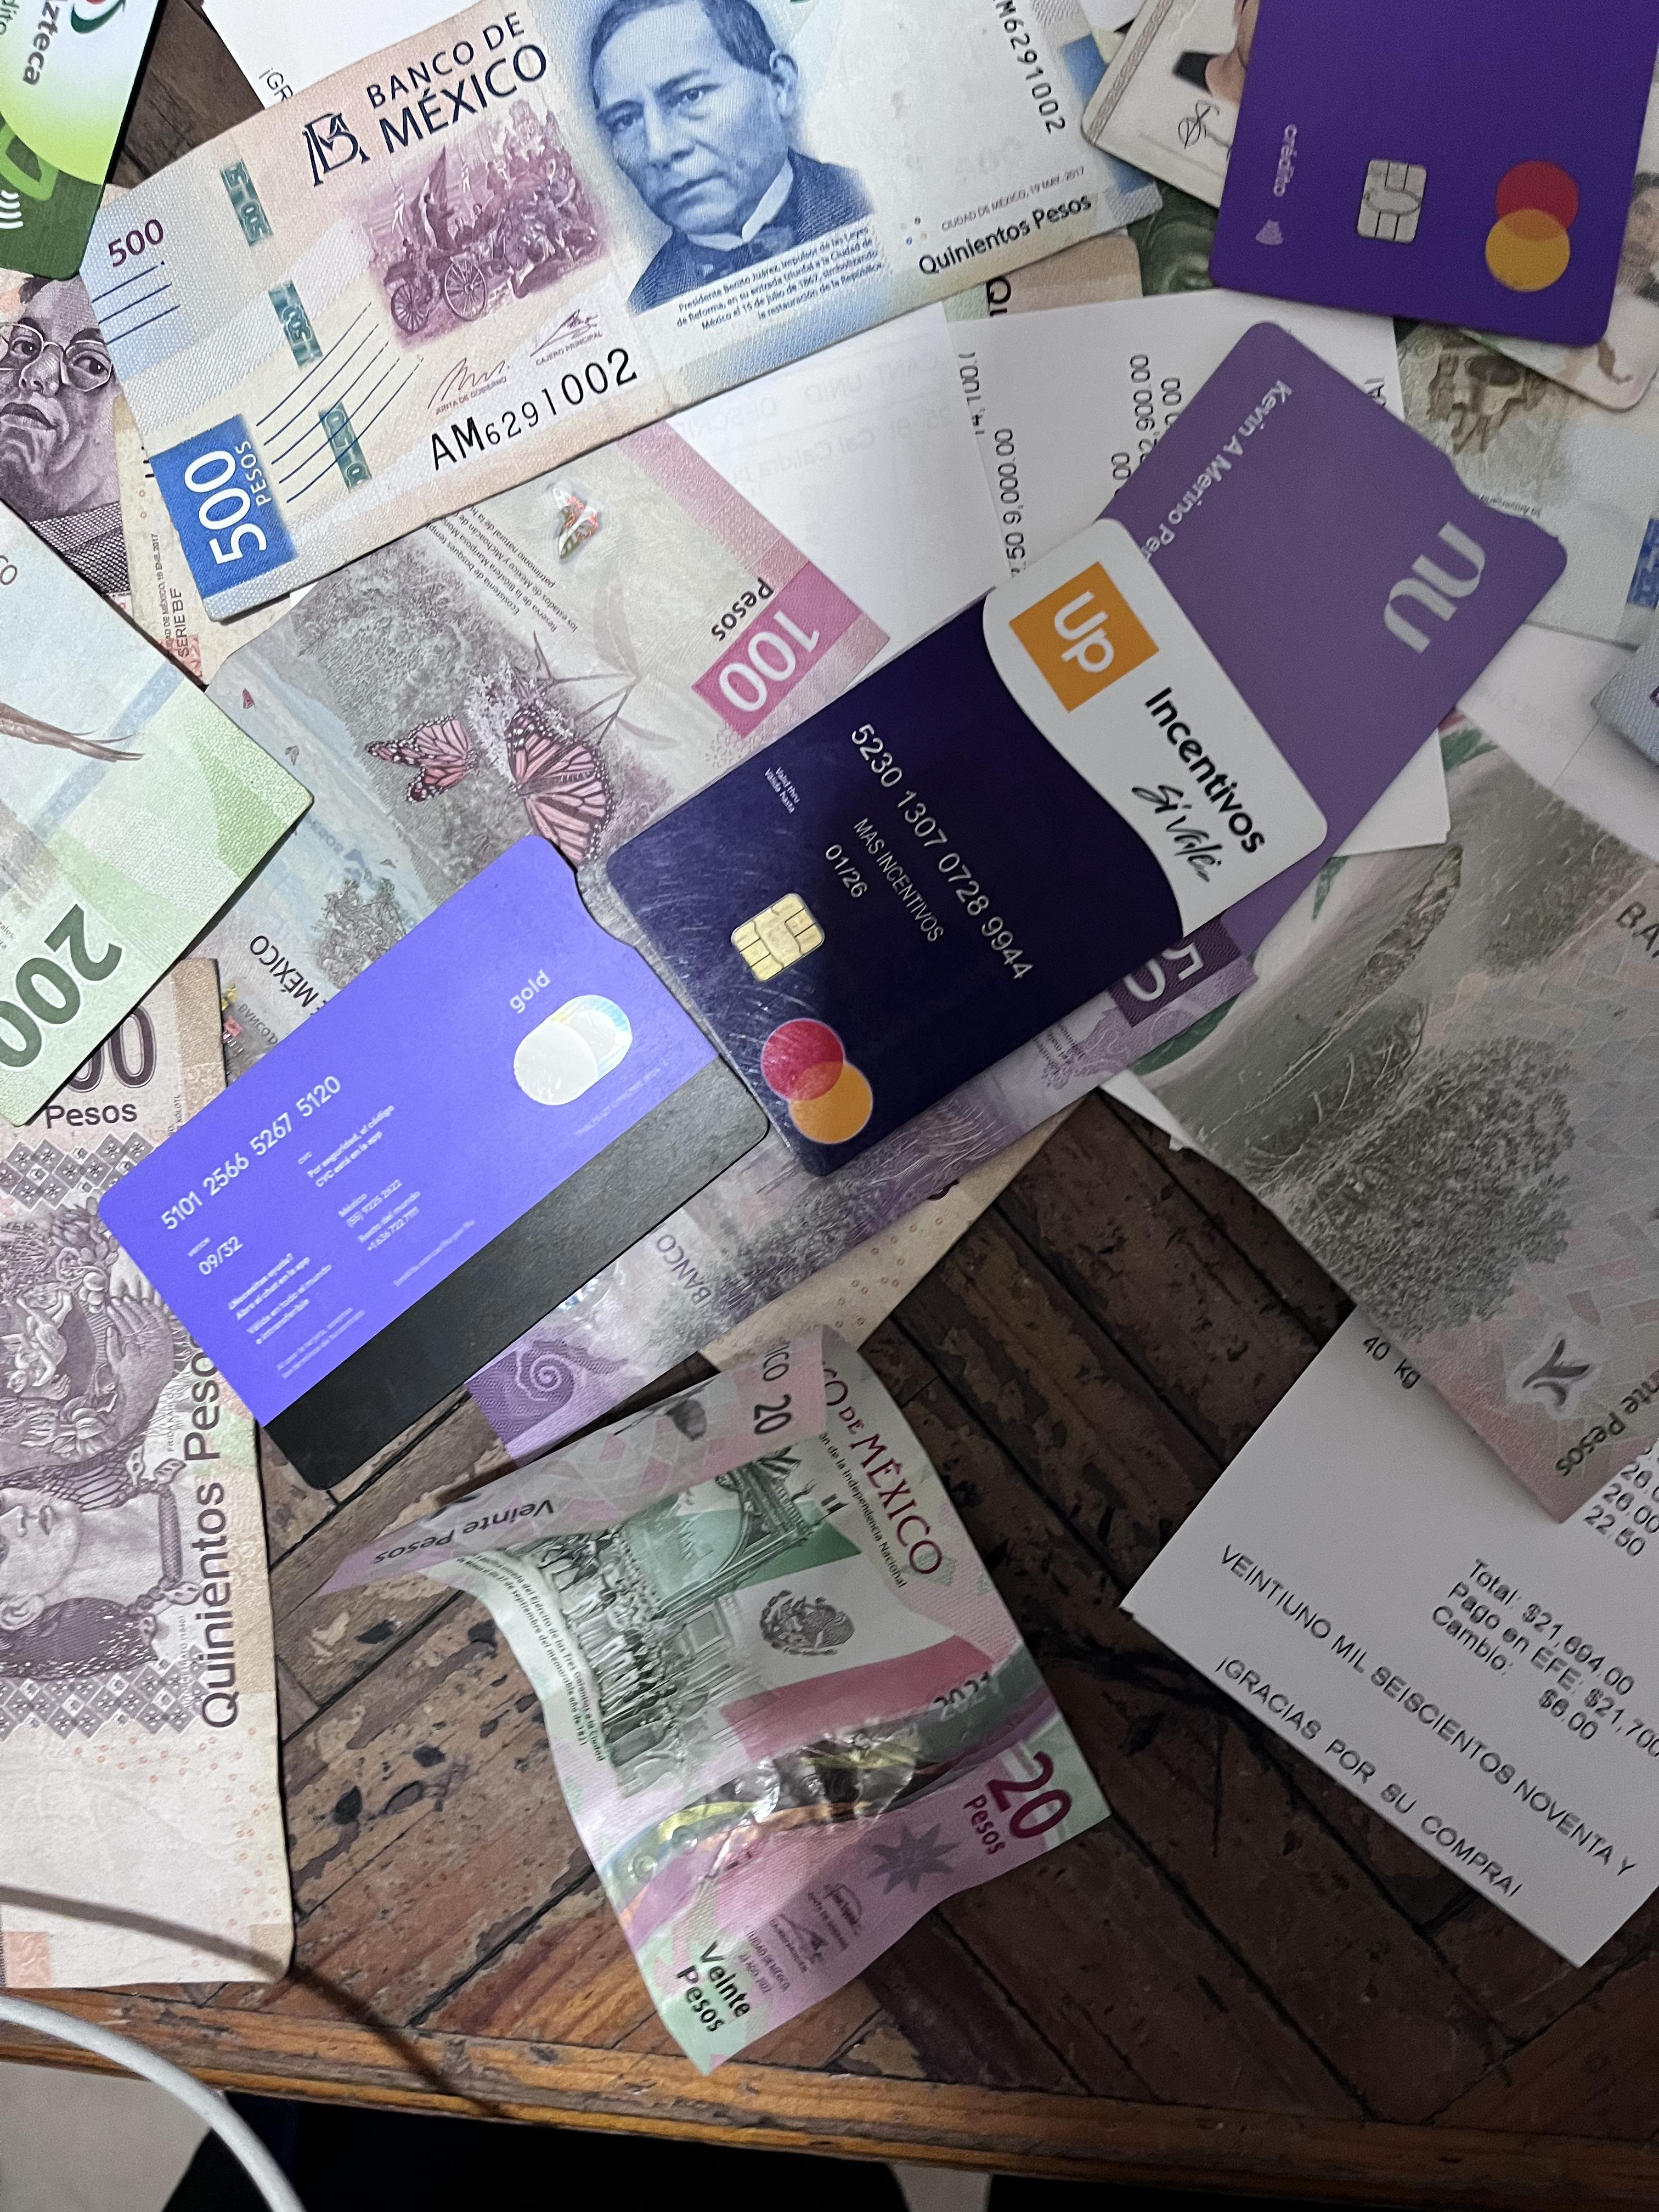100: (42, 359, 894, 1158)
20: (242, 1331, 1152, 2088), (1066, 693, 1659, 1555)
200: (0, 500, 319, 1150)
50: (390, 927, 1234, 1449)
500: (0, 949, 301, 2047)
500 nuevo: (73, 0, 1182, 636)
